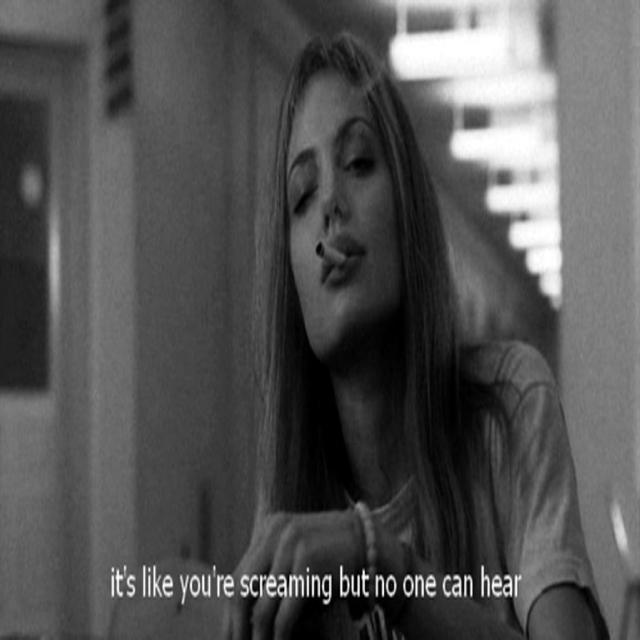smoking: (255, 44, 428, 352)
